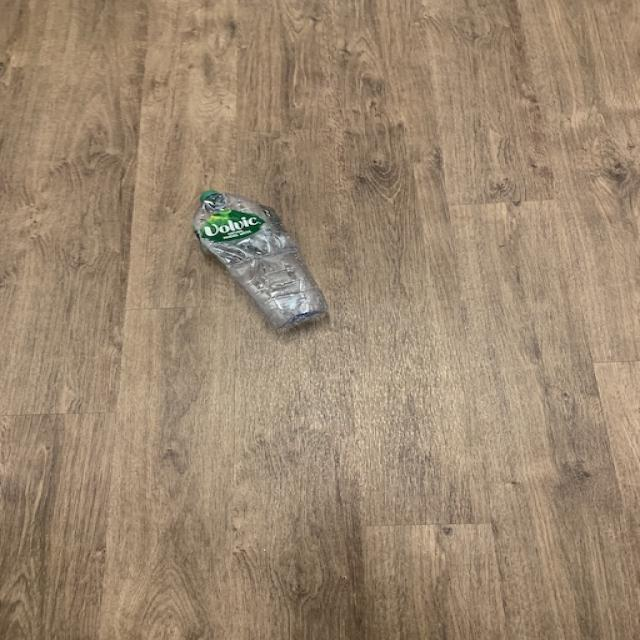litter: (192, 188, 334, 336)
